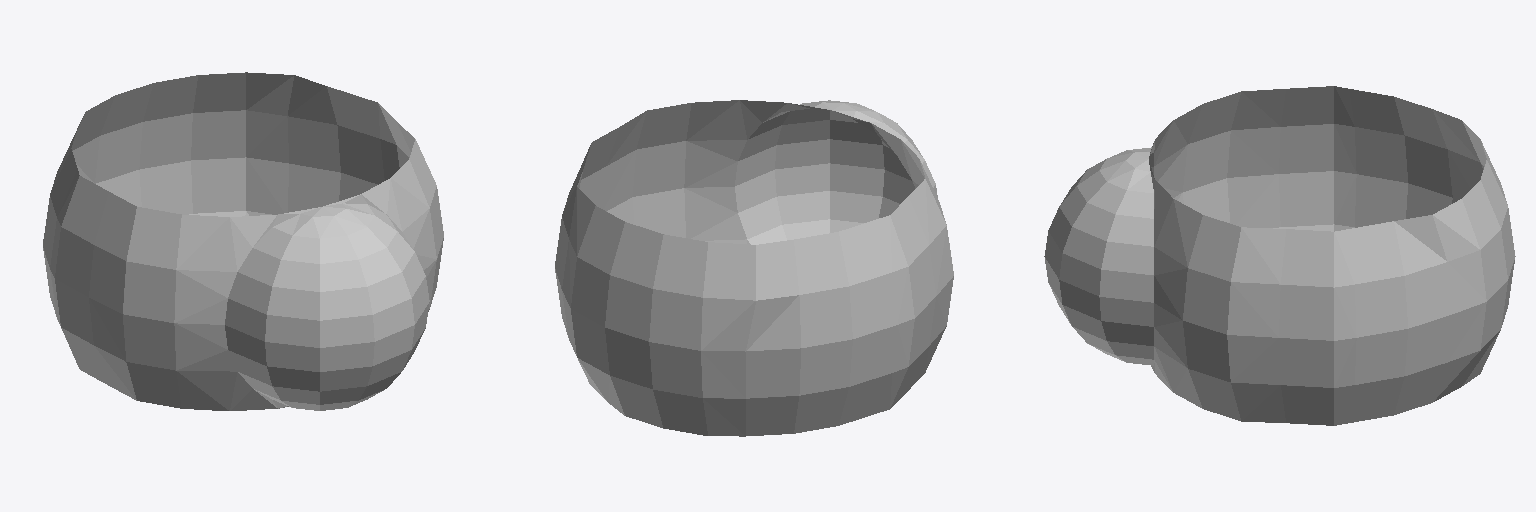
The model's file is HipRoll.obj.
The picture shows the model from 3 angles: view 1: azimuth 30°, elevation 25°; view 2: azimuth 150°, elevation 25°; view 3: azimuth 270°, elevation 25°; orthographic projection.
Parts seen in each view (by area): view 1: default; view 2: default; view 3: default.
Part boxes in pixels (x1,y1,x2,y2): default: (43, 72, 443, 410); default: (555, 100, 953, 436); default: (1044, 86, 1515, 425).
Bounding box in the file's own units: 0.1902 × 0.1014 × 0.2229.